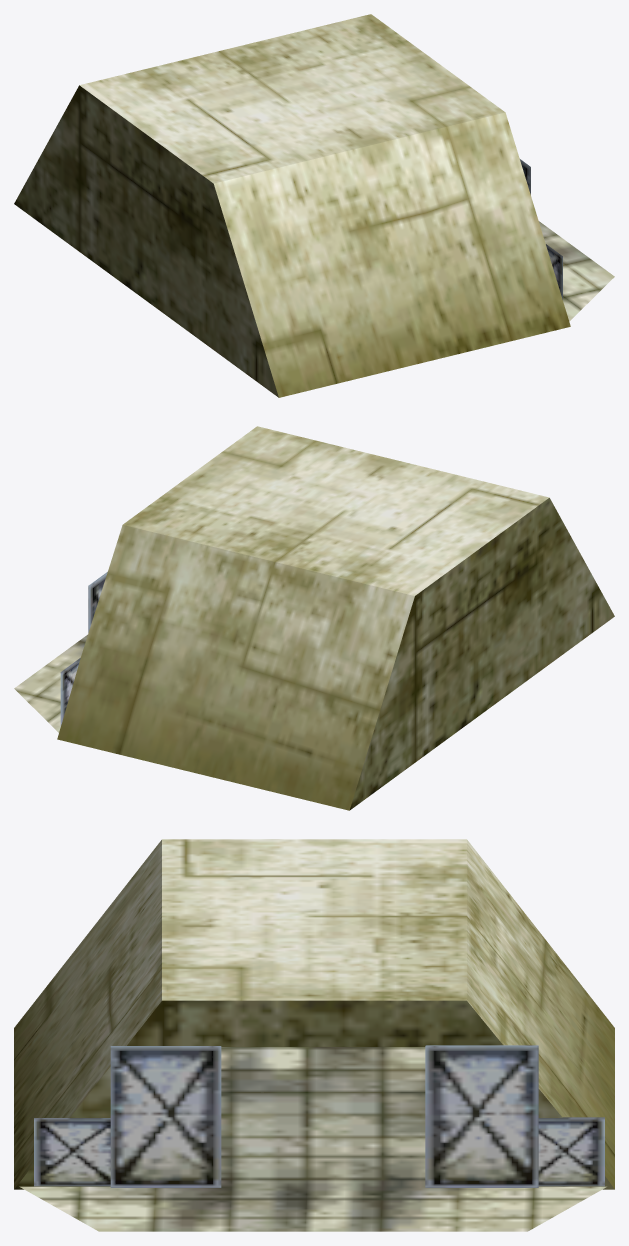
File: Civilian - Civilian Building - Stan Hanger 02 - CBTHanger2.glb
The picture shows the model from 3 angles, top to bottom: view 1: azimuth 30°, elevation 25°; view 2: azimuth 150°, elevation 25°; view 3: azimuth 270°, elevation 25°; orthographic projection. The views are drawn at different scales.
Visible parts, largest first — view 1: CBTHANGER2; view 2: CBTHANGER2; view 3: CBTHANGER2.
Boxes of the visible parts, x1,y1,x2,y2 form: CBTHANGER2: (14, 14, 614, 397); CBTHANGER2: (14, 426, 614, 810); CBTHANGER2: (14, 839, 614, 1231).
Size of the model in its own units: 57.65 by 24.56 by 70.85.
1 material, 1 textured.
